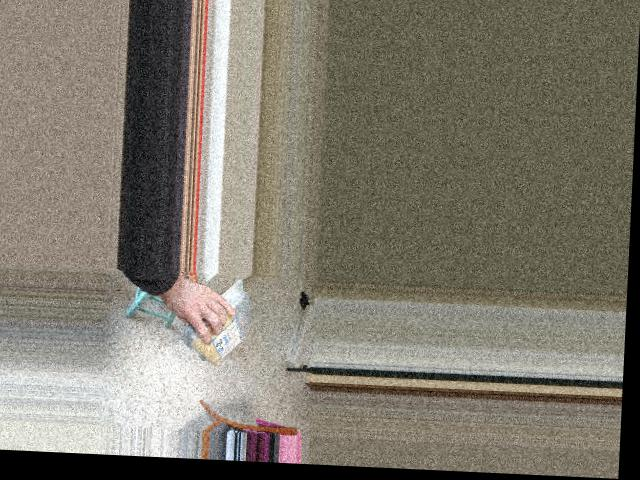cheese: (197, 275, 248, 364)
